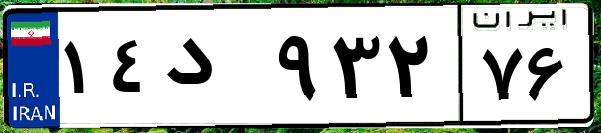1: (57, 26, 110, 100)
2: (385, 28, 445, 110)
3: (330, 28, 385, 110)
4: (110, 28, 158, 98)
6: (525, 38, 570, 115)
7: (475, 38, 525, 113)
9: (270, 28, 330, 110)
د: (158, 20, 270, 120)
